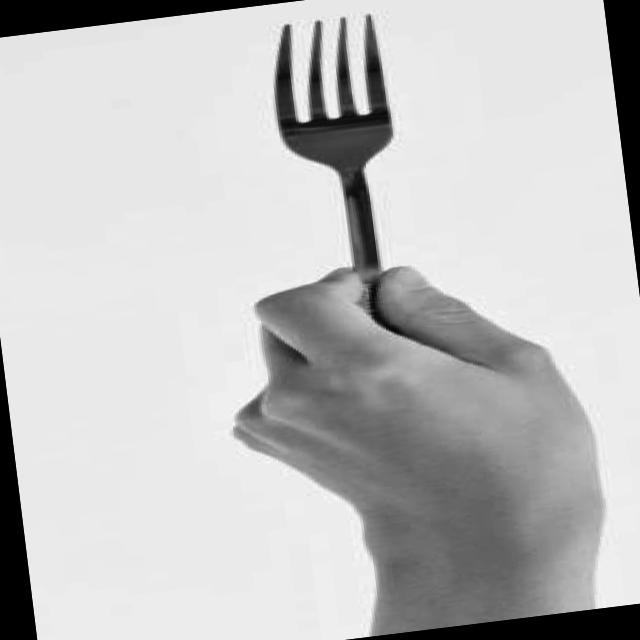fork: (256, 5, 432, 355)
